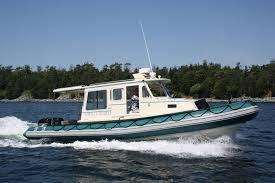Ship: (25, 69, 258, 142)
